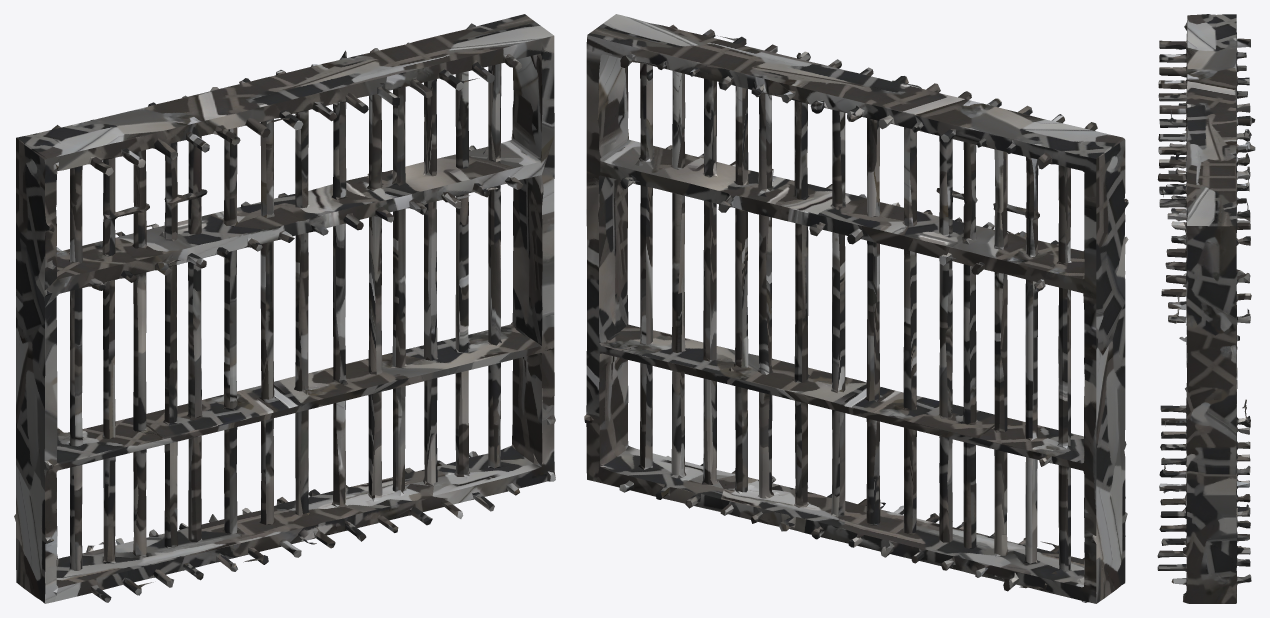
The model's file is JailBars.fbx.
The picture shows the model from 3 angles, left to right: view 1: azimuth 30°, elevation 25°; view 2: azimuth 150°, elevation 25°; view 3: azimuth 270°, elevation 25°; orthographic projection. The views are drawn at different scales.
Parts seen in each view (by area): view 1: Mesh_0; view 2: Mesh_0; view 3: Mesh_0.
Part boxes in pixels (left/top/right/bottom): Mesh_0: left=14, top=14, right=555, bottom=603; Mesh_0: left=584, top=14, right=1128, bottom=603; Mesh_0: left=1157, top=14, right=1255, bottom=603.
Bounding box in the file's own units: 200 × 169 × 39.17.
